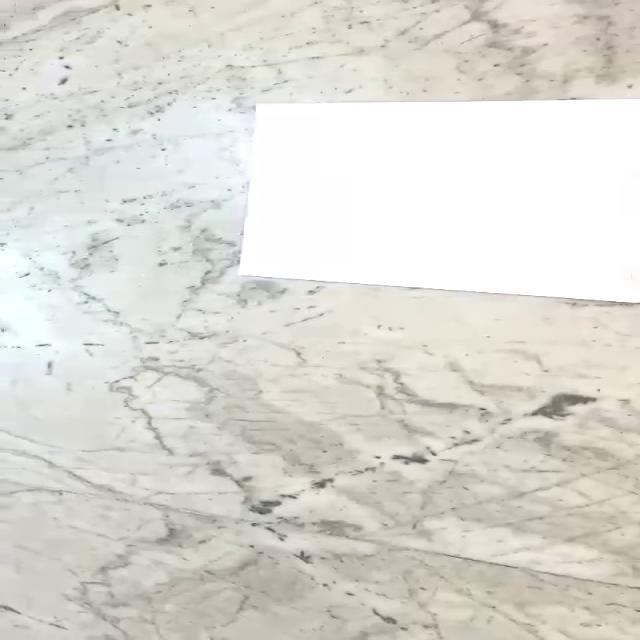road: (240, 100, 640, 303)
